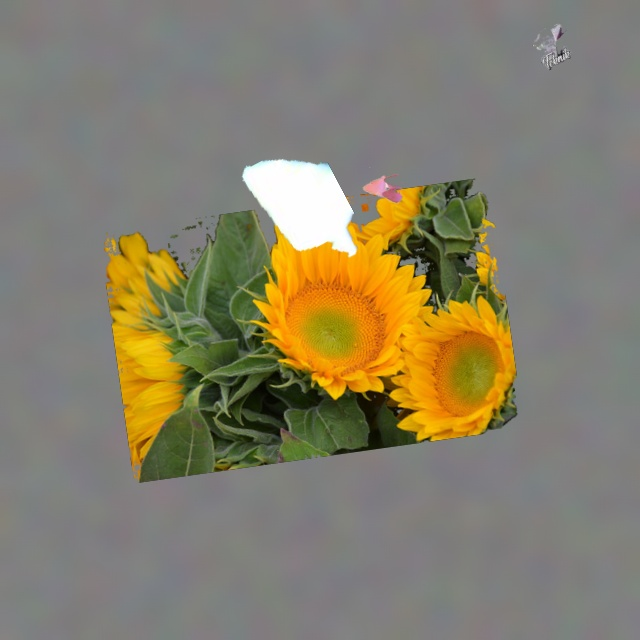butterfly flower: (533, 24, 571, 69), (363, 175, 401, 202)
orchid: (242, 159, 356, 256)
sunflower: (104, 179, 516, 482)
